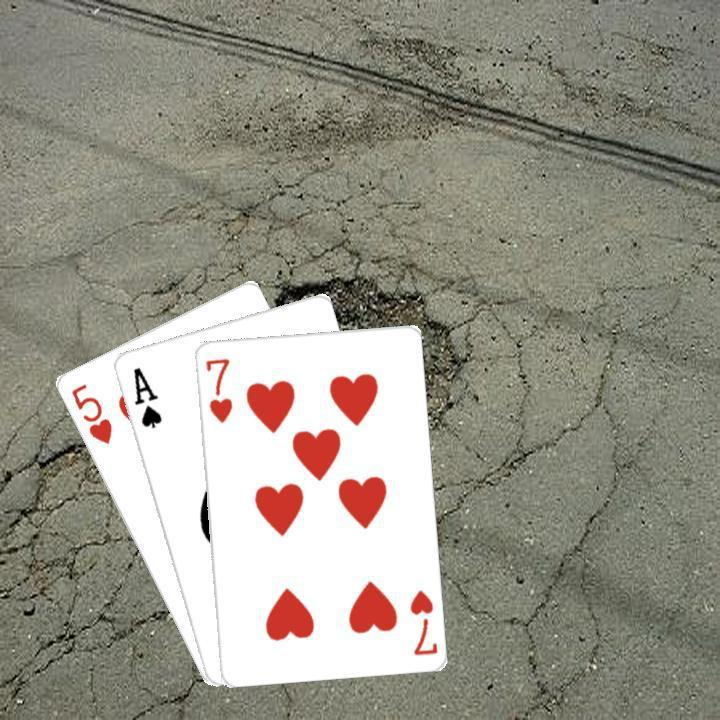5: (66, 379, 114, 446)
7: (405, 585, 439, 657), (201, 353, 234, 425)
A: (128, 362, 163, 430)
